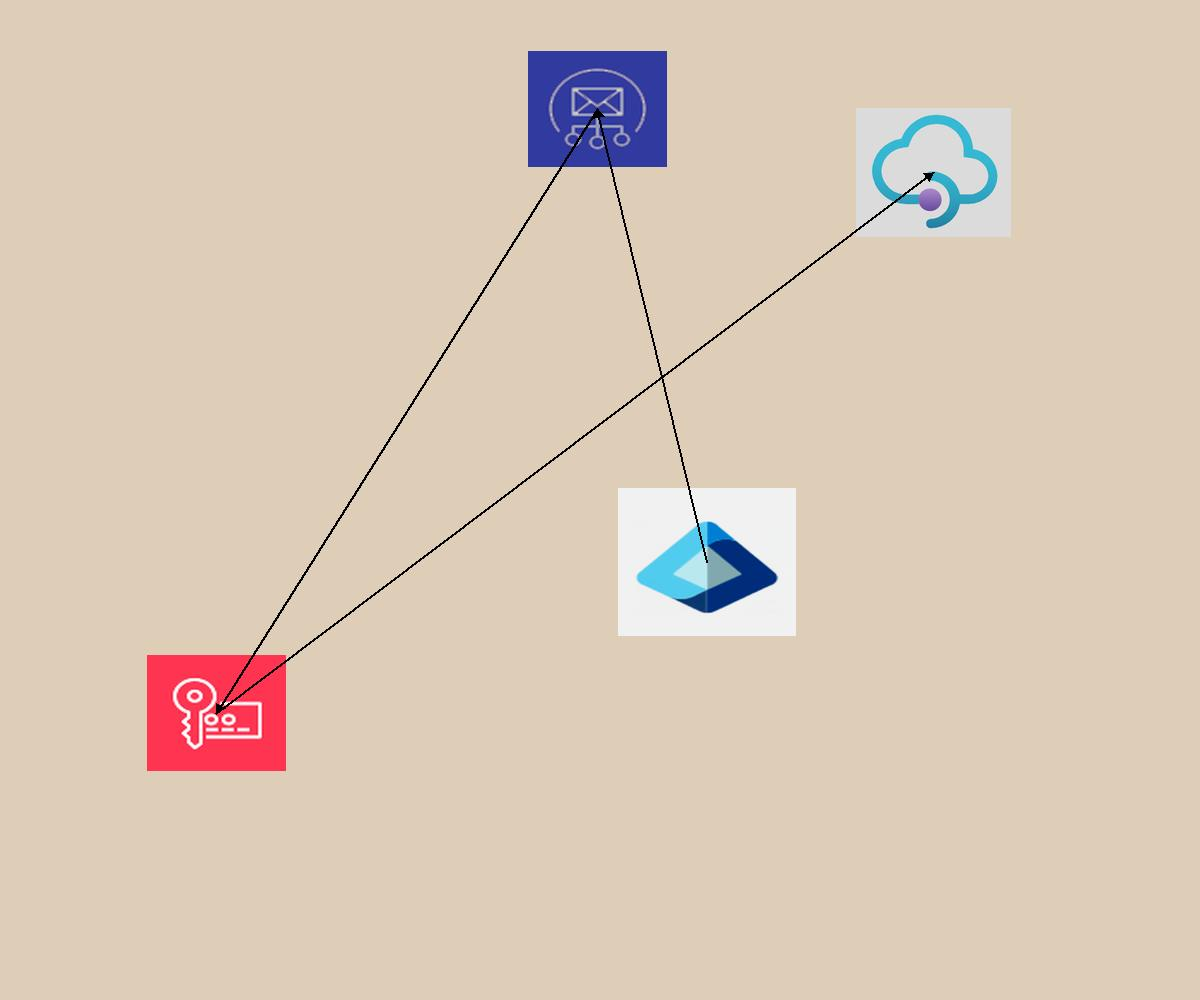AWS-Key-Management-Service: (147, 655, 286, 771)
AWS-Simple-Email-Service: (528, 51, 667, 167)
Azure_api_gateway: (856, 108, 1011, 237)
Azure_microsoft_entra: (618, 488, 796, 636)
